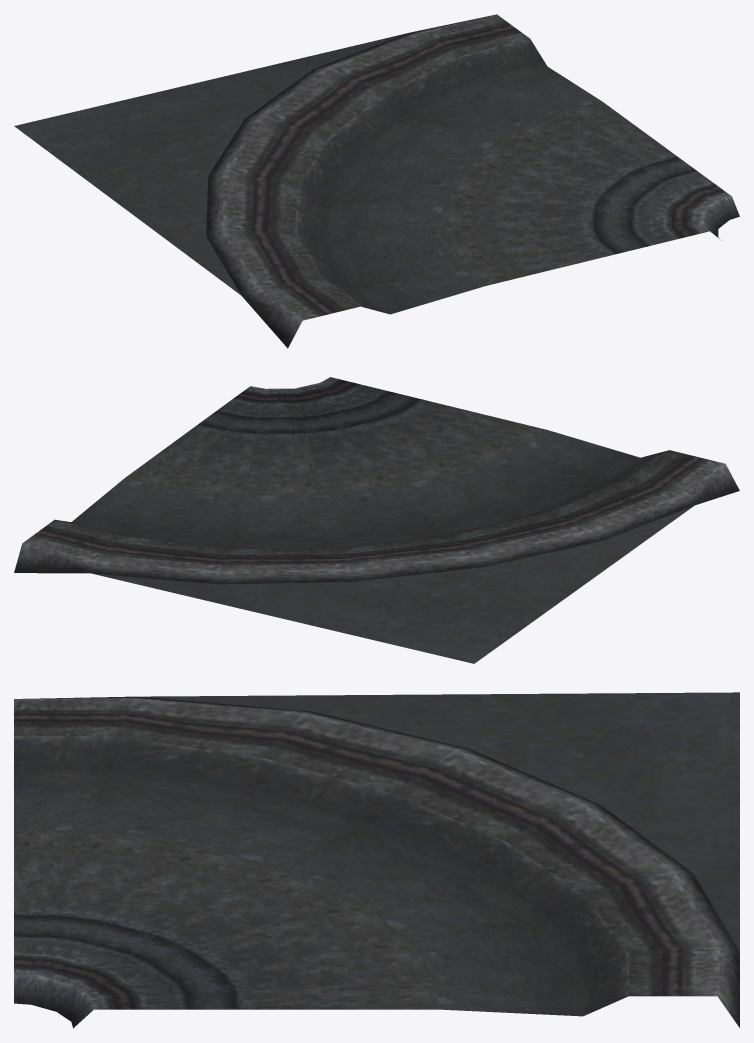
Rendered from living_area_welder_metal_thick_concave_tiny.dae.
3 views of the same model, one above another, from view 1: azimuth 30°, elevation 25°; view 2: azimuth 150°, elevation 25°; view 3: azimuth 270°, elevation 25° (orthographic). The views are drawn at different scales.
Parts seen in each view (by area): view 1: concave_tiny; view 2: concave_tiny; view 3: concave_tiny.
Part boxes in pixels (box(x1,y1,x2,y2)): concave_tiny: box(14, 14, 739, 348); concave_tiny: box(14, 377, 739, 663); concave_tiny: box(14, 692, 739, 1028).
Bounding box in the file's own units: 0.5625 × 0.0349 × 0.5625.
